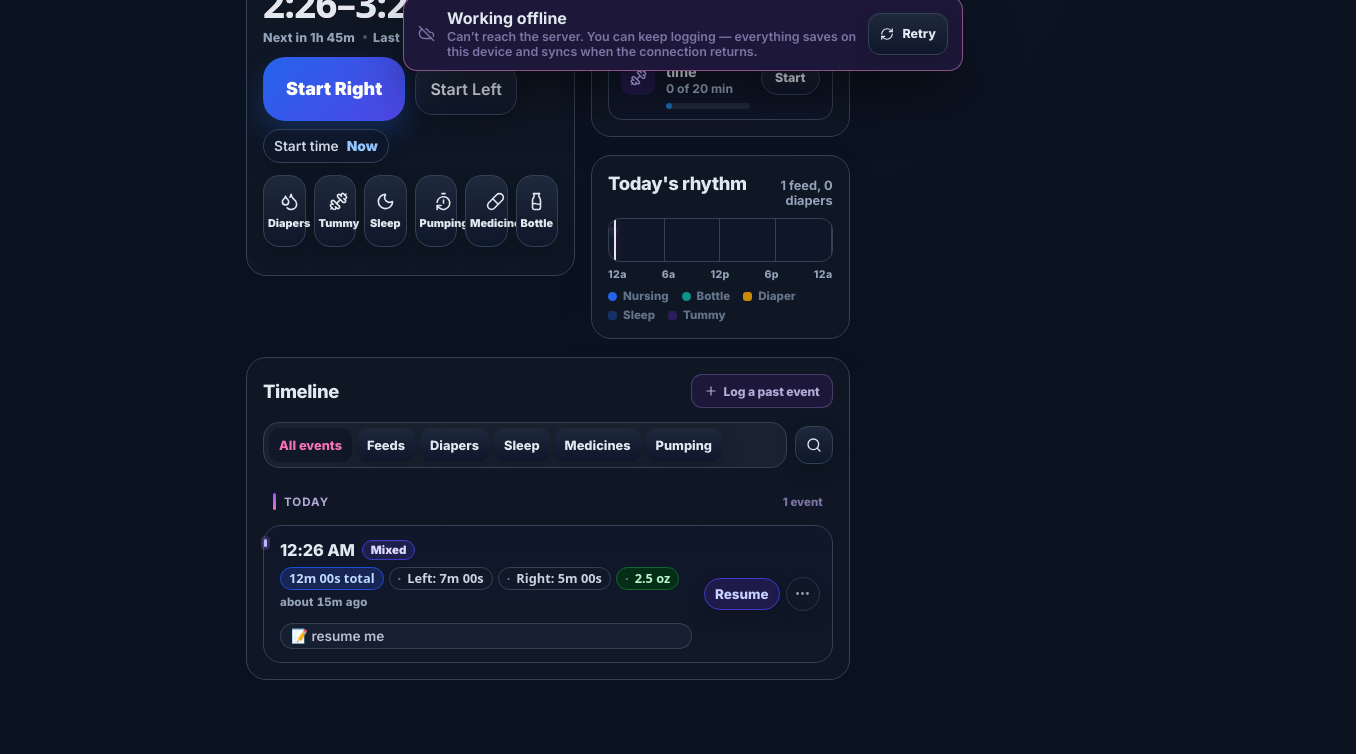
App interactions › resumes a saved timeline entry immediately on its saved side and offers undo
(page scrolled)
Click the button named "Entry actions" at (803, 594), box [786,577,820,611]
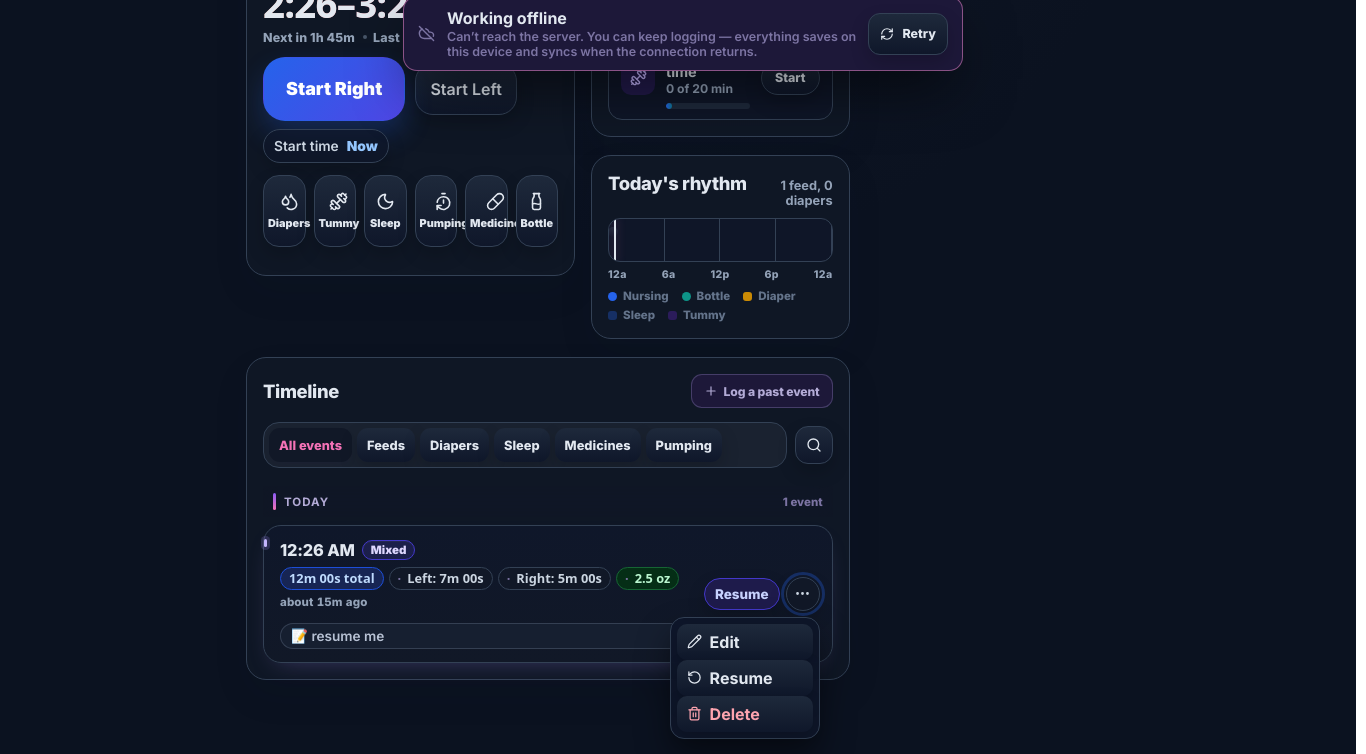
Click the menu item with aria-label "Resume session" at (745, 678), box [677,660,813,696]
(page scrolled)
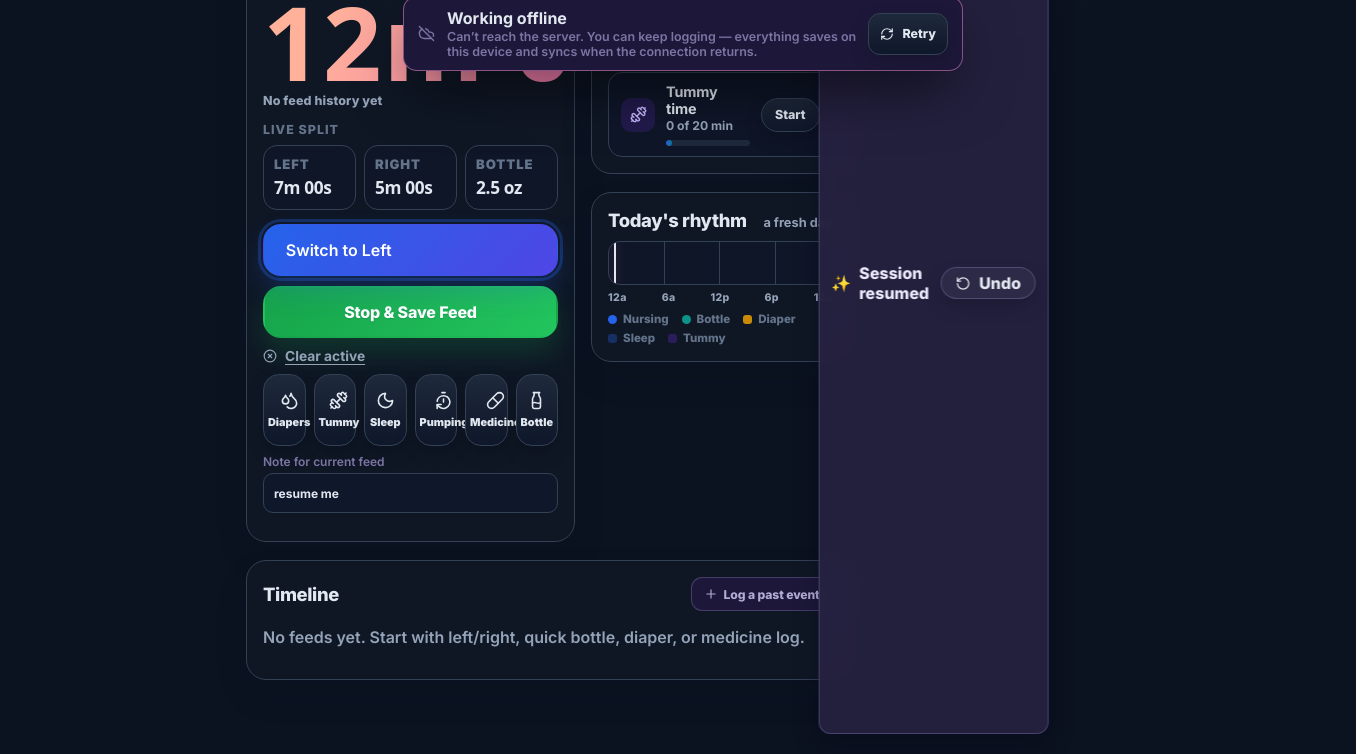
Now the text "Session resumed" is shown, box [859,263,929,303]
Now the button "Switch to Left" is shown, box [263,224,558,276]
Now the field showing "resume me" is shown, box [263,473,558,513]
Click the button with aria-label "Undo resume" at (989, 283), box [941,267,1036,299]
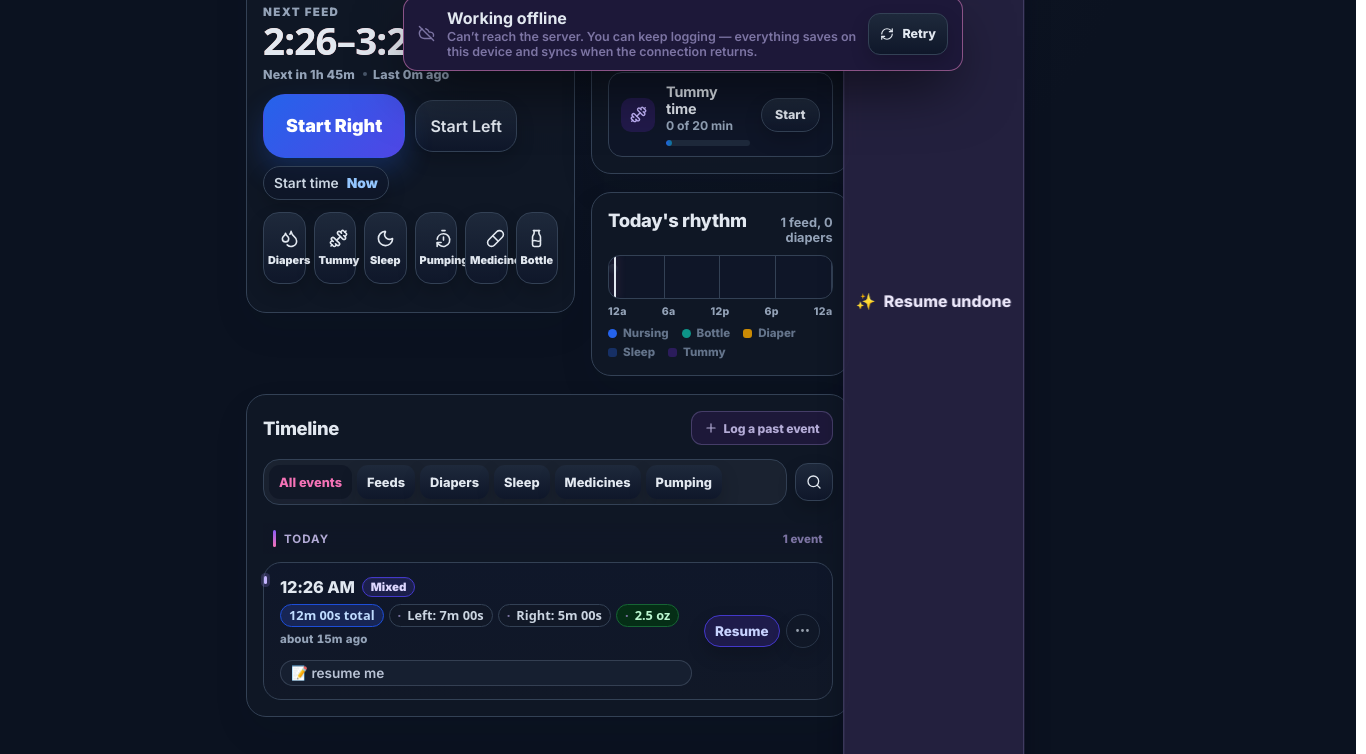
Now the text "Resume undone" is shown, box [884,291,1011,311]
Now the text "mixed" is shown, box [362,577,416,597]
